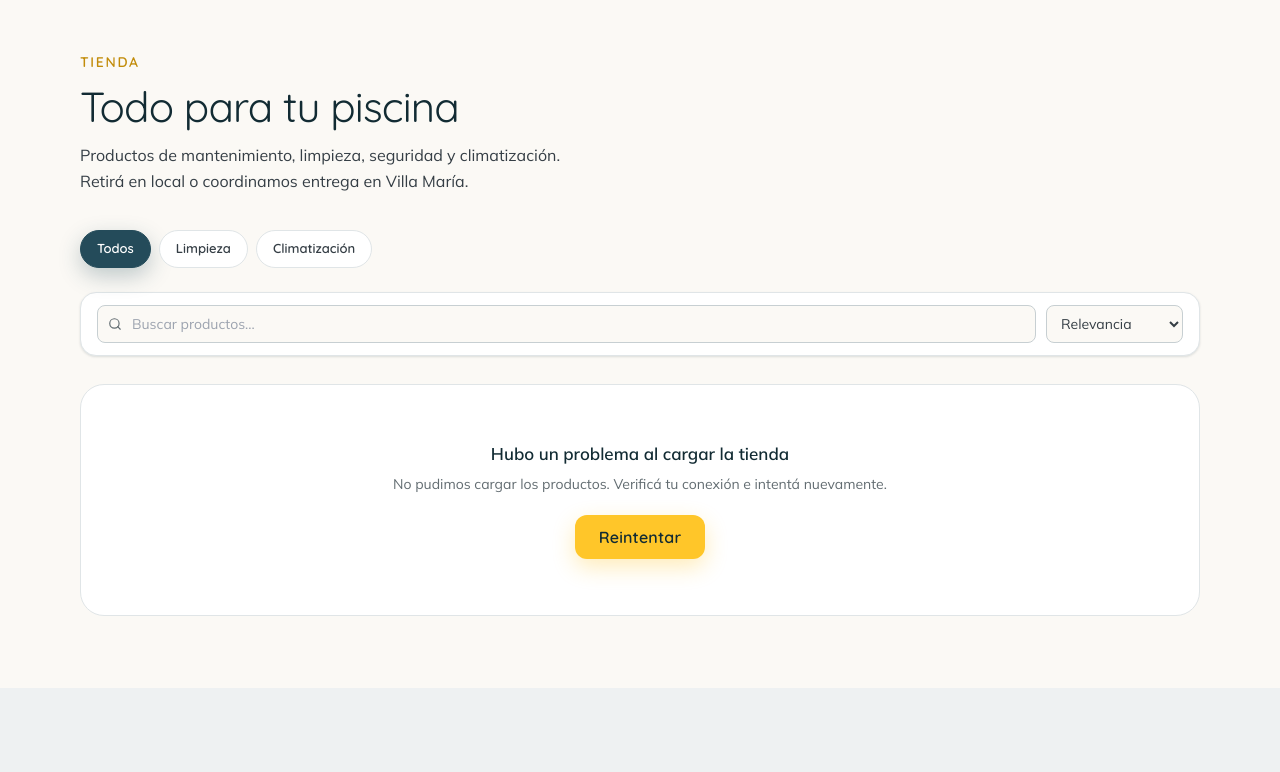
it: Shop › explica el error y deja reintentar si la tienda no carga
Expected: the text "Hubo un problema al cargar la tienda" is shown, [491, 443, 789, 464]
Click the button "Reintentar".
click(640, 538)  # box [575, 516, 705, 560]
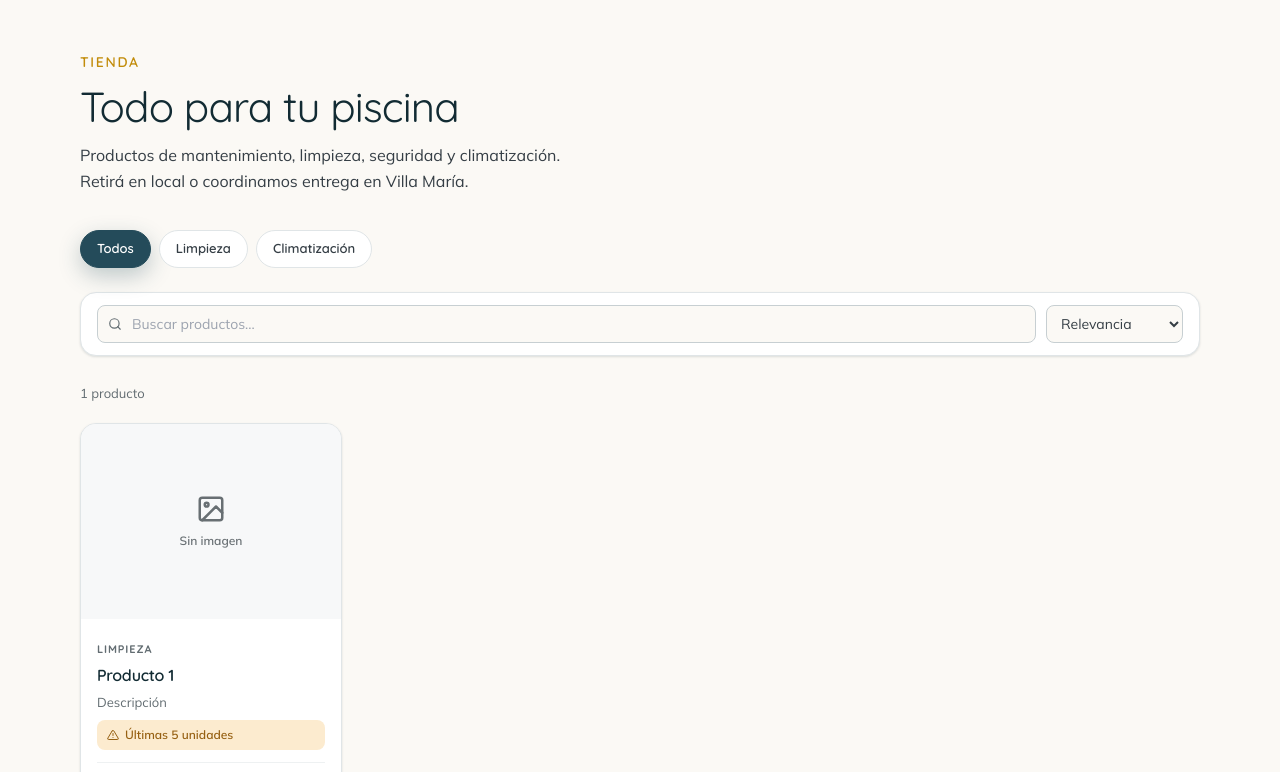
Result: the heading "Producto 1" is shown at [97, 666, 174, 686]
